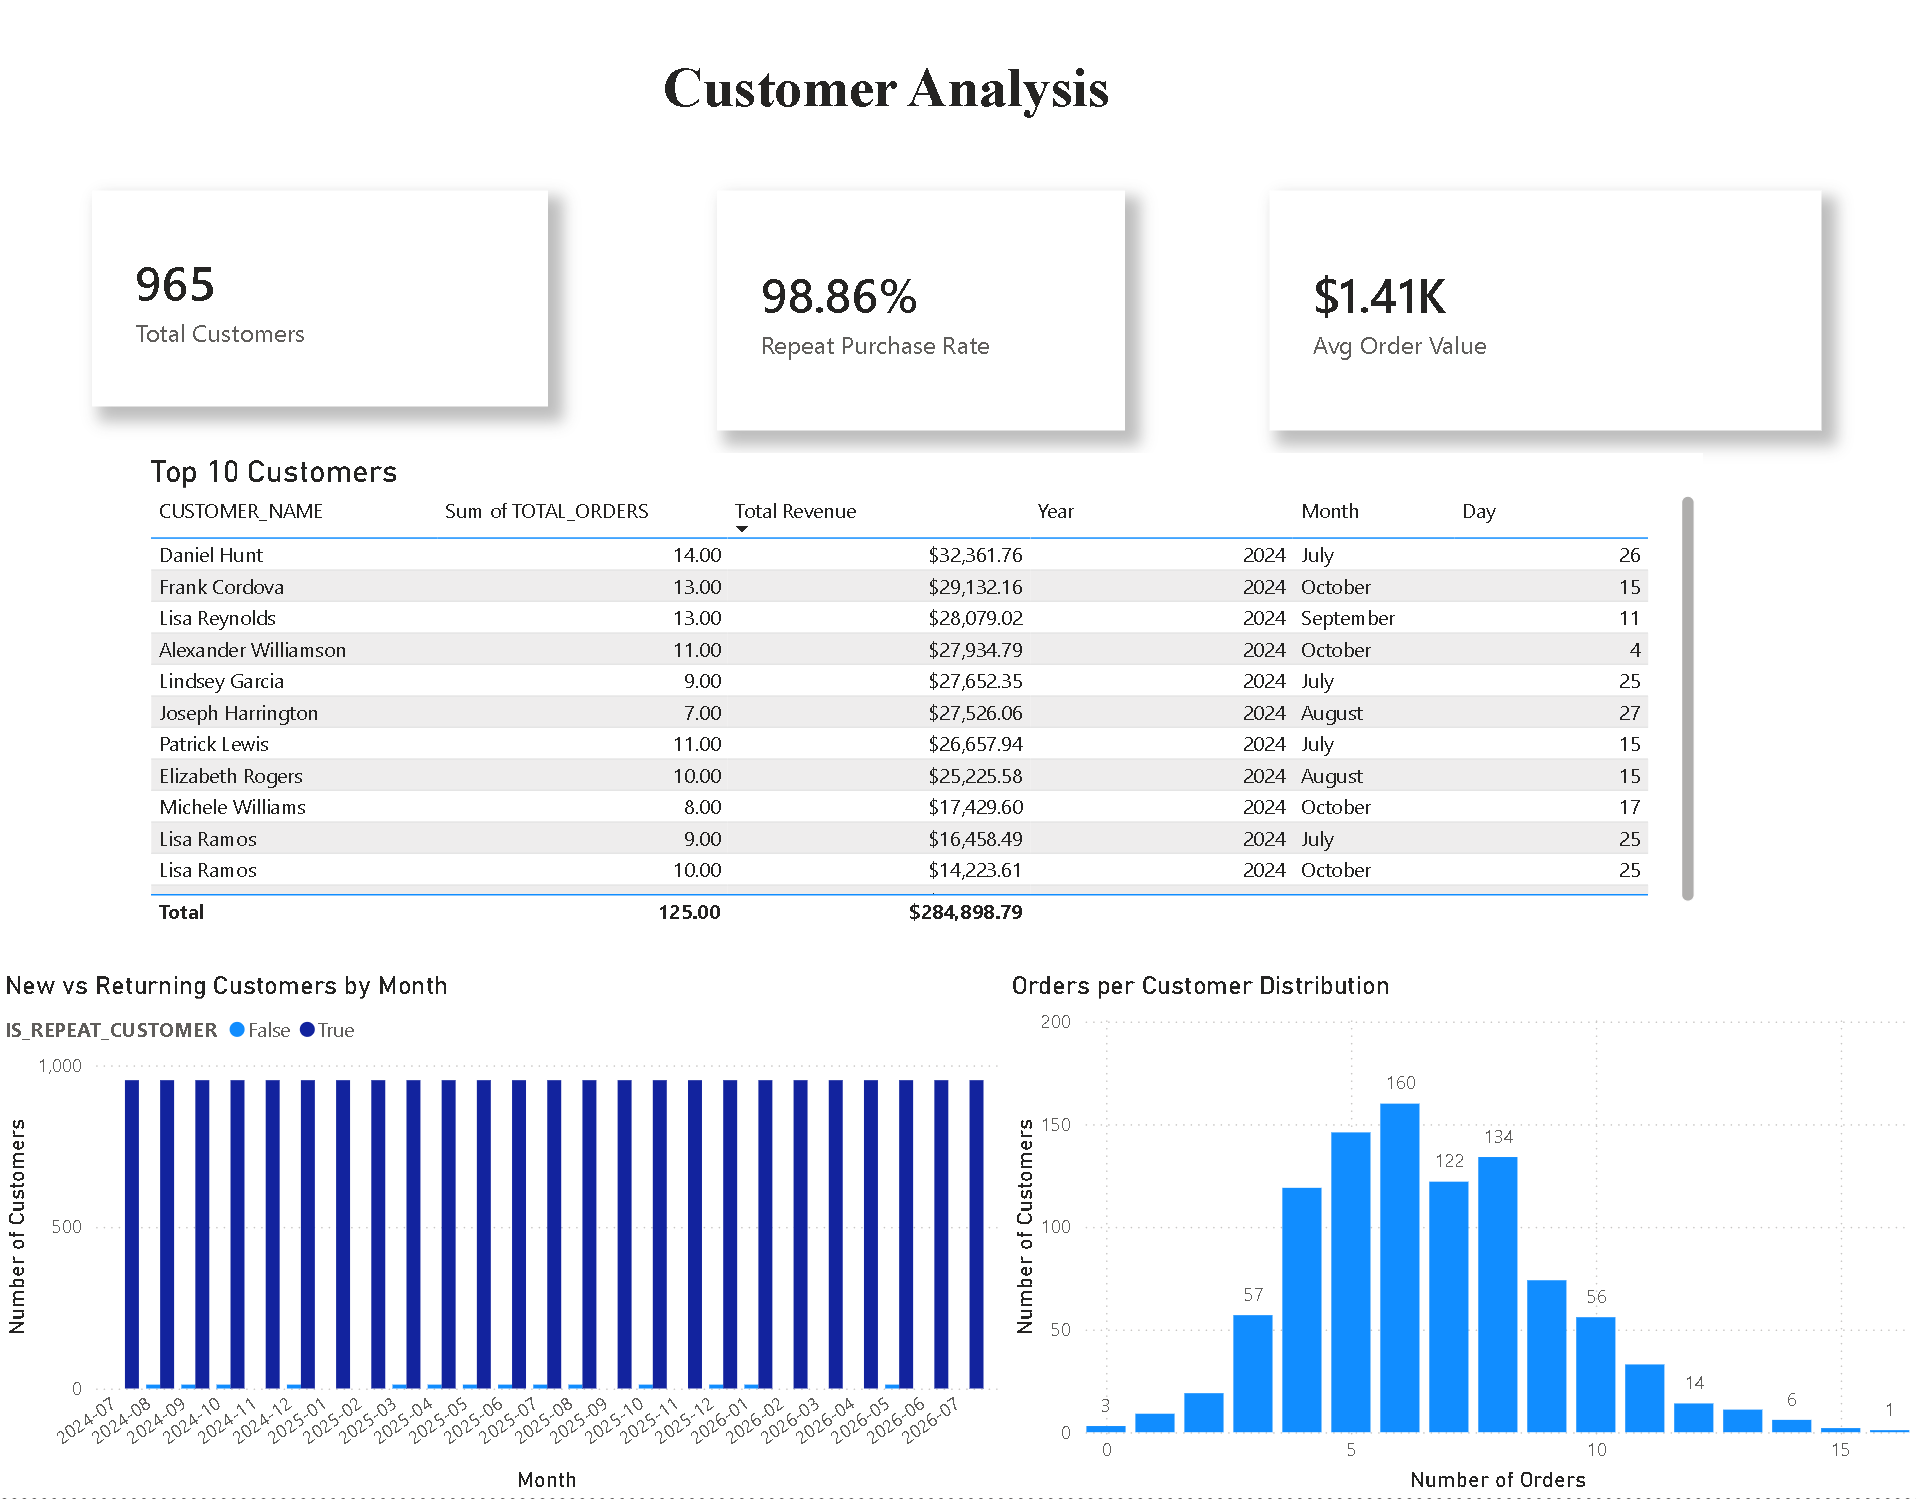

The dashboard page shown, as its layout file describes it:
{"tool":"powerbi","page":{"name":"Customer Analysis","canvas":[1280,1000],"ordinal":1},"visuals":[{"type":"cardVisual","fields":{"Data":["_Measures.Total Customers"]},"box":[64,128,304,144],"z":0},{"type":"cardVisual","fields":{"Data":["_Measures.Avg Order Value"]},"box":[848,128,368,160],"z":1000},{"type":"cardVisual","fields":{"Data":["_Measures.Repeat Purchase Rate"]},"box":[480,128,272,160],"z":2000},{"type":"tableEx","title":"Top 10 Customers","fields":{"Values":["DIM_CUSTOMER.CUSTOMER_NAME","Sum(DIM_CUSTOMER.TOTAL_ORDERS)","_Measures.Total Revenue","DIM_CUSTOMER.FIRST_ORDER_DATE.Variation.Date Hierarchy.Year","DIM_CUSTOMER.FIRST_ORDER_DATE.Variation.Date Hierarchy.Month","DIM_CUSTOMER.FIRST_ORDER_DATE.Variation.Date Hierarchy.Day"]},"box":[96,304,1040,320],"z":3000},{"type":"clusteredColumnChart","title":"New vs Returning Customers by Month","fields":{"Category":["DIM_DATE.YEAR_MONTH"],"Y":["CountNonNull(DIM_CUSTOMER.CUSTOMER_ID)"],"Series":["DIM_CUSTOMER.IS_REPEAT_CUSTOMER"]},"box":[0,648,672,352],"z":4000},{"type":"clusteredColumnChart","title":"Orders per Customer Distribution","fields":{"Category":["DIM_CUSTOMER.TOTAL_ORDERS"],"Y":["CountNonNull(DIM_CUSTOMER.CUSTOMER_ID)"]},"box":[672,648,608,352],"z":5000},{"type":"textbox","box":[336,32,512,80],"z":6000}]}

Visuals, with their boxes in screenshot pixels (x1, y1, x2, y2), scaled from the page's 1280x1000 canvas onto the 1916x1499 screenshot:
cardVisual - _Measures.Total Customers: (96, 192, 551, 408)
cardVisual - _Measures.Avg Order Value: (1269, 192, 1820, 432)
cardVisual - _Measures.Repeat Purchase Rate: (718, 192, 1126, 432)
"Top 10 Customers" tableEx: (144, 456, 1700, 935)
"New vs Returning Customers by Month" clusteredColumnChart: (0, 971, 1006, 1498)
"Orders per Customer Distribution" clusteredColumnChart: (1006, 971, 1915, 1498)
textbox: (503, 48, 1269, 168)
